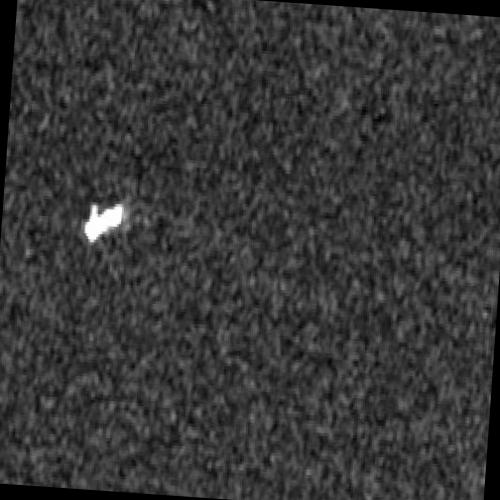ship: (83, 201, 124, 244)
